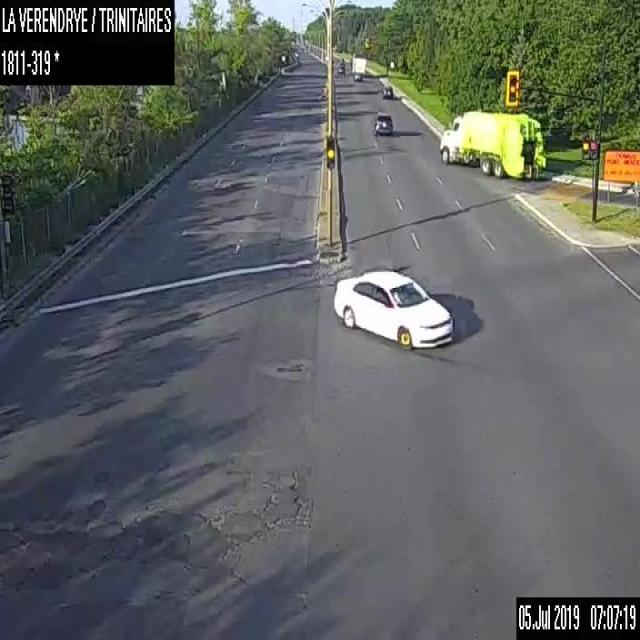vehicle: (331, 268, 454, 349), (438, 109, 546, 179), (374, 110, 392, 134), (351, 55, 365, 73), (382, 85, 393, 98), (353, 70, 362, 80), (336, 64, 344, 73), (339, 57, 344, 64)
